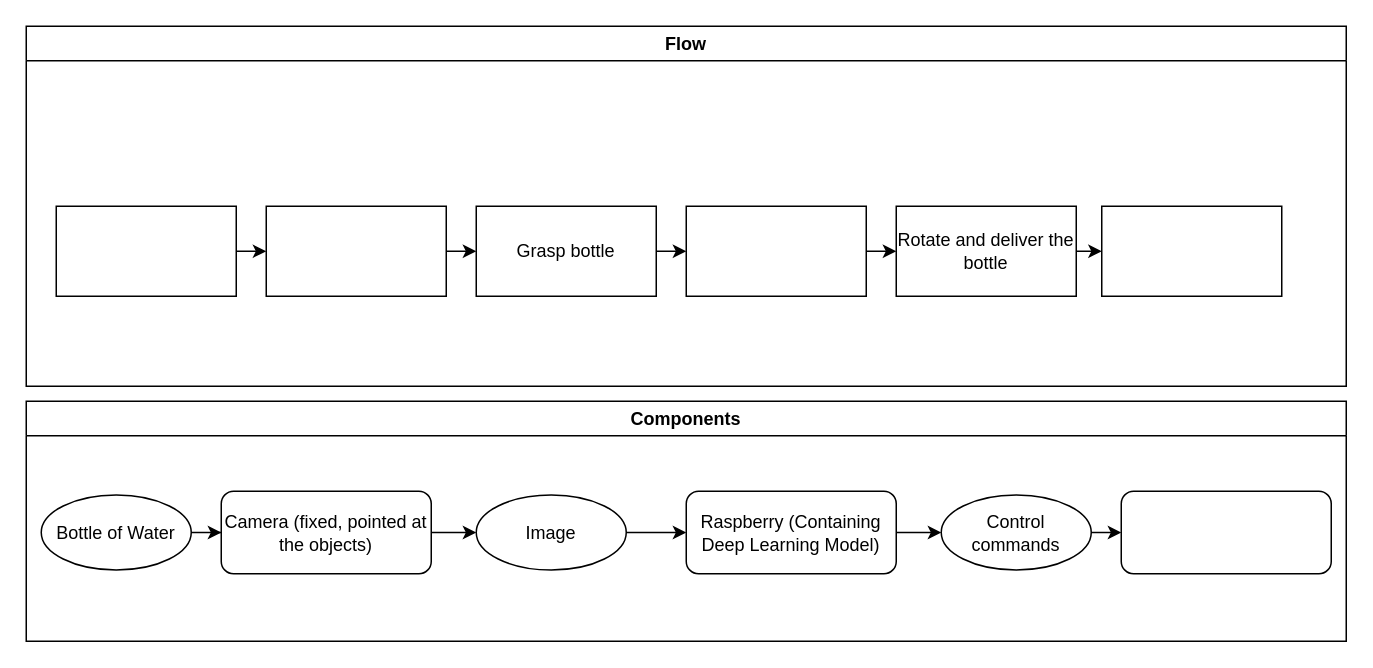
Some shapes in this 1373 by 668 pixel diagram are drawn without their labels. The shapes that lost their labels are listed below. From the top down, each one's centre as x and y in pixels, then its label:
At (145,250): "Bottle detection (every second, in OFFLINE state)".
At (355,250): "Control Command to grab bottle".
At (775,250): "Lift and return itself to a fixed ONLINE state".
At (1191,250): "Return to a fixed OFFLINE state".
At (1225,532): "Robot Arm".
